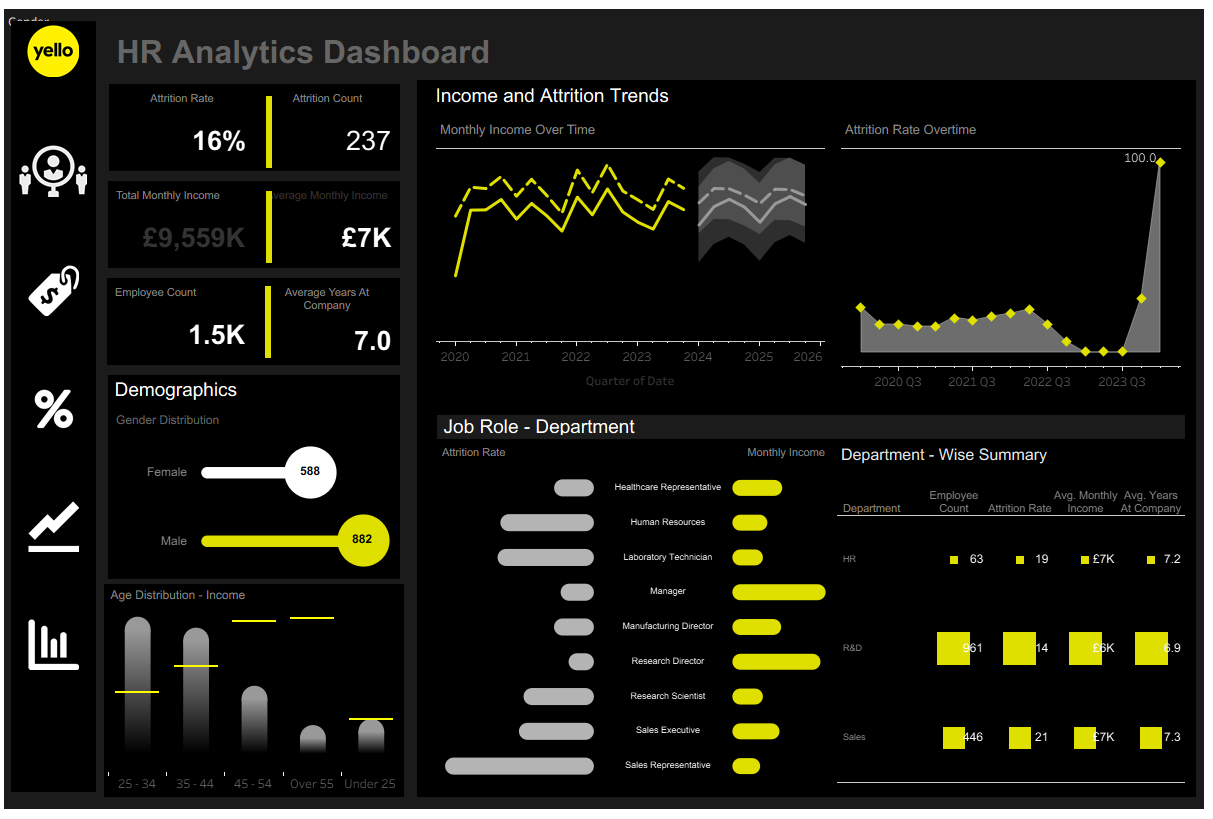

Layout of this report page (visuals, bound fields, positions):
{"tool":"tableau","page":{"name":"Dashboard 1","canvas":[1200,800],"ordinal":0},"visuals":[{"type":"legend","title":"Lollipop 1","param":"[federated.09gqt7k0wxb8fy1dyjecp151j2iq].[none:Gender:nk]","box":[0,0,1200,66]},{"type":"image","param":"Image/Tableau Image 1.png","box":[7,12,85,60]},{"type":"text","box":[106,21,1084,44]},{"type":"blank","box":[7,72,85,60]},{"type":"text","box":[425,74,754,25]},{"type":"worksheet","title":"KPI Rate","mark":"Automatic","box":[105,75,146,87]},{"type":"worksheet","title":"KPI Att Cnt","mark":"Automatic","box":[251,75,145,87]},{"type":"blank","box":[262,87,6,72]},{"type":"worksheet","title":"Line 1","mark":"Automatic","rows":["Monthly Income","Monthly Income"],"cols":["Date"],"box":[424,101,405,295]},{"type":"worksheet","title":"Line 2","mark":"Area","rows":["Calculation_835699235960979456","Calculation_835699235960979456"],"cols":["Date"],"box":[829,101,356,295]},{"type":"image","param":"Image/Tableau Image 2.png","box":[7,132,85,60]},{"type":"worksheet","title":"KPI TMI","mark":"Automatic","box":[104,172,146,87]},{"type":"worksheet","title":"KPI AMI","mark":"Automatic","box":[250,172,146,87]},{"type":"blank","box":[262,182,6,72]},{"type":"blank","box":[7,192,85,60]},{"type":"image","param":"Image/Tableau Image 3.png","box":[7,252,85,59]},{"type":"worksheet","title":"KPI EC","mark":"Automatic","box":[103,269,147,87]},{"type":"worksheet","title":"KPI AYC","mark":"Automatic","box":[250,269,146,87]},{"type":"blank","box":[261,277,6,72]},{"type":"blank","box":[7,311,85,59]},{"type":"text","box":[104,366,292,30]},{"type":"image","param":"Image/Tableau Image 4.png","box":[7,370,85,59]},{"type":"worksheet","title":"Lollipop 1","mark":"Automatic","rows":["Gender"],"cols":["Employee Count"],"box":[104,396,292,174]},{"type":"text","box":[433,406,748,24]},{"type":"blank","box":[7,429,85,59]},{"type":"worksheet","title":"But 1","mark":"Line","rows":["Job Role"],"box":[430,429,170,349]},{"type":"worksheet","title":"But 2","mark":"Line","rows":["Job Role"],"box":[600,429,229,349]},{"type":"worksheet","title":"Table","mark":"Square","rows":["Department"],"box":[829,429,356,349]},{"type":"image","param":"Image/Tableau Image 5.png","box":[7,488,85,59]},{"type":"blank","box":[7,547,85,59]},{"type":"text","box":[100,575,300,22]},{"type":"worksheet","title":"Age Distribution","mark":"Automatic","rows":["Monthly Income"],"cols":["CF_age band"],"box":[100,597,300,191]},{"type":"image","param":"Image/Tableau Image 6.png","box":[7,606,85,59]},{"type":"blank","box":[7,665,85,59]},{"type":"blank","box":[7,724,85,59]}]}

Visuals, with their boxes in screenshot pixels (x1, y1, x2, y2), scaled from the page's 1200x800 canvas onto the 1213x819 screenshot:
"Lollipop 1" legend: {"left": 0, "top": 0, "right": 1212, "bottom": 68}
image: {"left": 7, "top": 12, "right": 93, "bottom": 74}
text: {"left": 107, "top": 21, "right": 1203, "bottom": 67}
blank: {"left": 7, "top": 74, "right": 93, "bottom": 135}
text: {"left": 430, "top": 76, "right": 1192, "bottom": 101}
"KPI Rate" worksheet: {"left": 106, "top": 77, "right": 254, "bottom": 166}
"KPI Att Cnt" worksheet: {"left": 254, "top": 77, "right": 400, "bottom": 166}
blank: {"left": 265, "top": 89, "right": 271, "bottom": 163}
"Line 1" worksheet: {"left": 429, "top": 103, "right": 838, "bottom": 405}
"Line 2" worksheet (Area marks): {"left": 838, "top": 103, "right": 1198, "bottom": 405}
image: {"left": 7, "top": 135, "right": 93, "bottom": 197}
"KPI TMI" worksheet: {"left": 105, "top": 176, "right": 253, "bottom": 265}
"KPI AMI" worksheet: {"left": 253, "top": 176, "right": 400, "bottom": 265}
blank: {"left": 265, "top": 186, "right": 271, "bottom": 260}
blank: {"left": 7, "top": 197, "right": 93, "bottom": 258}
image: {"left": 7, "top": 258, "right": 93, "bottom": 318}
"KPI EC" worksheet: {"left": 104, "top": 275, "right": 253, "bottom": 364}
"KPI AYC" worksheet: {"left": 253, "top": 275, "right": 400, "bottom": 364}
blank: {"left": 264, "top": 284, "right": 270, "bottom": 357}
blank: {"left": 7, "top": 318, "right": 93, "bottom": 379}
text: {"left": 105, "top": 375, "right": 400, "bottom": 405}
image: {"left": 7, "top": 379, "right": 93, "bottom": 439}
"Lollipop 1" worksheet: {"left": 105, "top": 405, "right": 400, "bottom": 584}
text: {"left": 438, "top": 416, "right": 1194, "bottom": 440}
blank: {"left": 7, "top": 439, "right": 93, "bottom": 500}
"But 1" worksheet (Line marks): {"left": 435, "top": 439, "right": 606, "bottom": 796}
"But 2" worksheet (Line marks): {"left": 606, "top": 439, "right": 838, "bottom": 796}
"Table" worksheet (Square marks): {"left": 838, "top": 439, "right": 1198, "bottom": 796}
image: {"left": 7, "top": 500, "right": 93, "bottom": 560}
blank: {"left": 7, "top": 560, "right": 93, "bottom": 620}
text: {"left": 101, "top": 589, "right": 404, "bottom": 611}
"Age Distribution" worksheet: {"left": 101, "top": 611, "right": 404, "bottom": 807}
image: {"left": 7, "top": 620, "right": 93, "bottom": 681}
blank: {"left": 7, "top": 681, "right": 93, "bottom": 741}
blank: {"left": 7, "top": 741, "right": 93, "bottom": 802}
